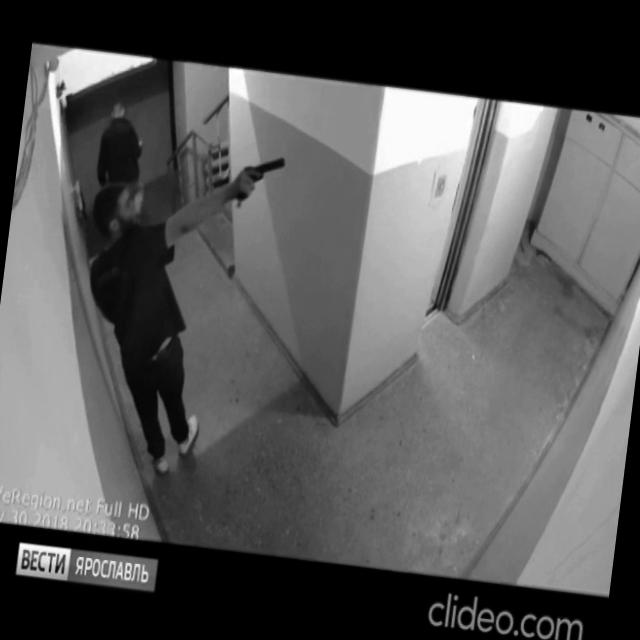gun: (234, 148, 288, 208)
person: (86, 98, 156, 246)
person with a gun: (61, 130, 290, 489)
